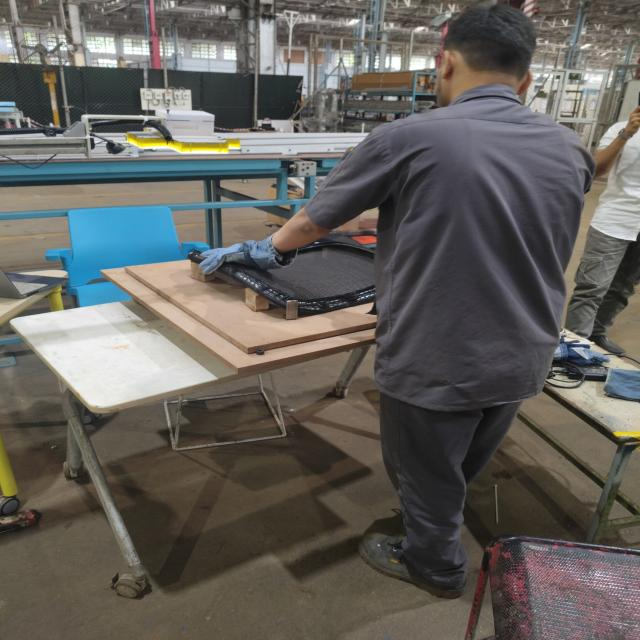Gloves-Detection: (192, 241, 293, 273)
